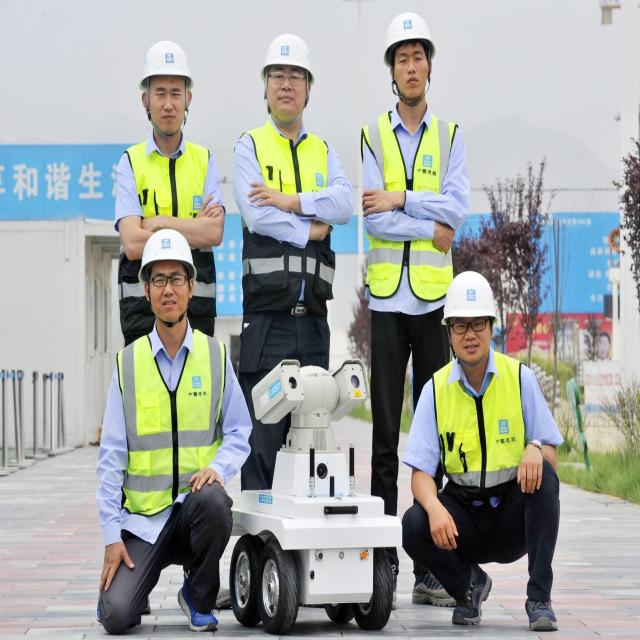goggles: (262, 65, 314, 94), (441, 313, 497, 339), (143, 268, 198, 294)
helmet: (137, 228, 201, 290), (440, 268, 501, 326), (259, 31, 318, 87), (139, 40, 194, 98), (380, 11, 437, 66)
no-goggles: (144, 82, 192, 110), (387, 46, 432, 74)
vest: (115, 326, 227, 520), (357, 104, 460, 310), (237, 120, 337, 312), (427, 352, 529, 516), (122, 137, 221, 220)
